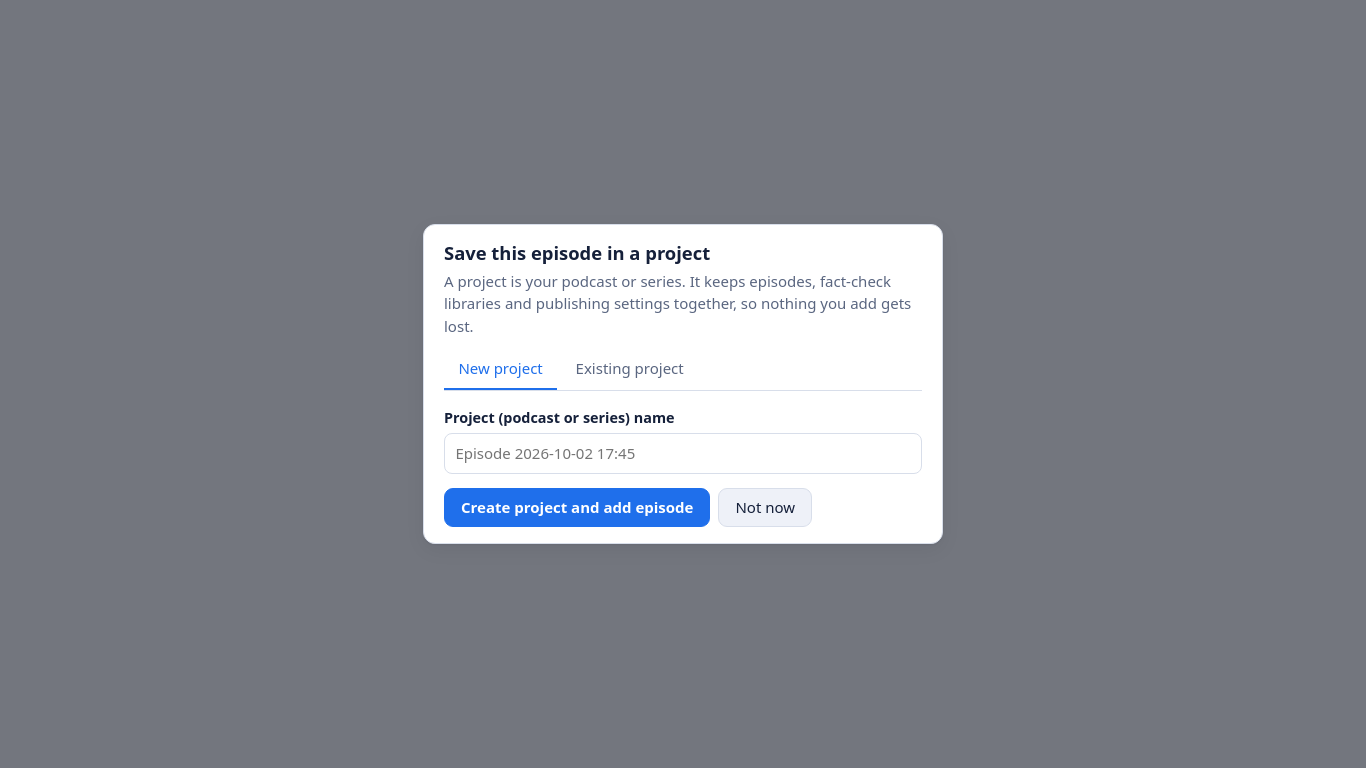
it: ProjectPrompt › asks once, then shows a reminder banner after 'Not now'
Expected: the dialog "Save this episode in a project" is shown, [423,224,943,544]
Click the button "Not now": point(765, 507) [718,488,812,527]
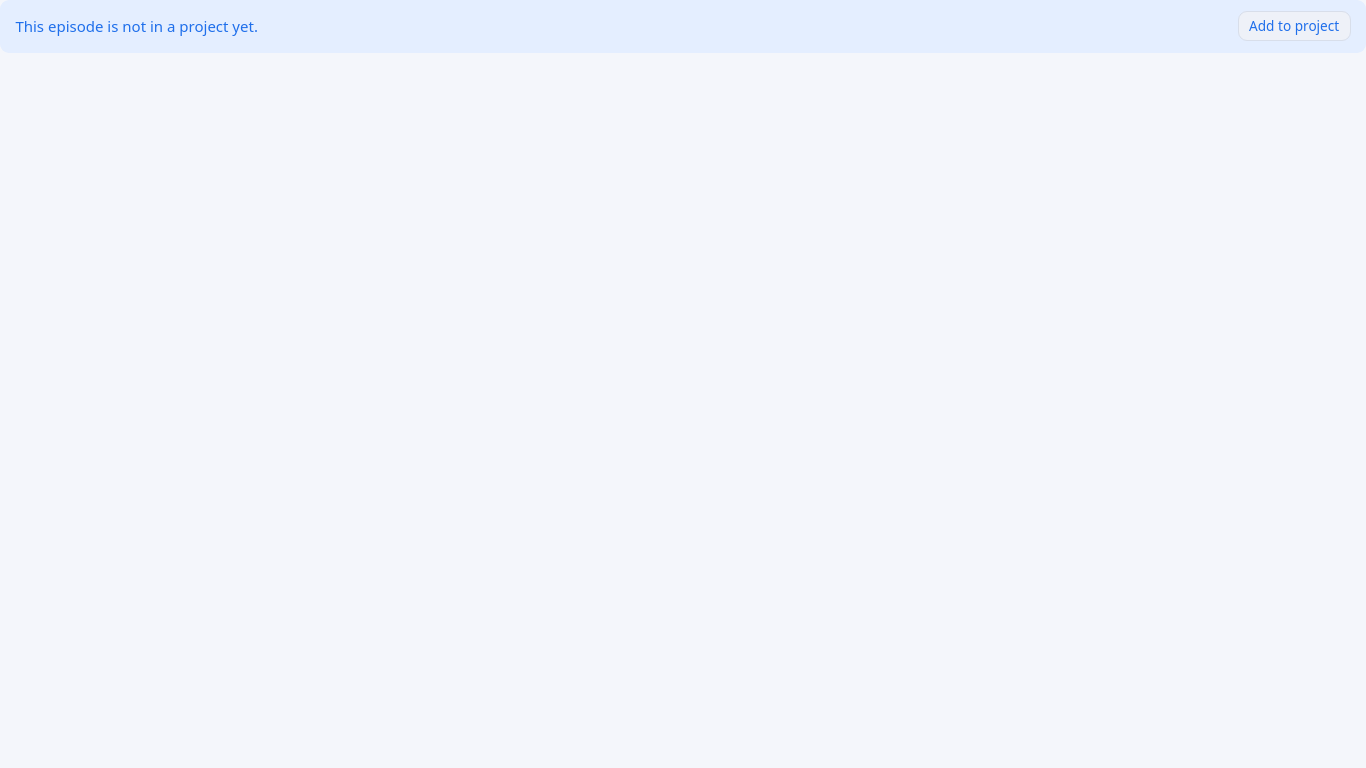
Result: the dialog is gone
Result: the text "This episode is not in a project yet." is shown at [15,15,258,38]
